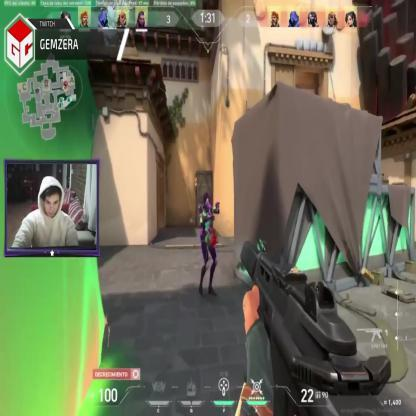enemy: (196, 192, 219, 296)
enemy_head: (203, 192, 210, 207)
